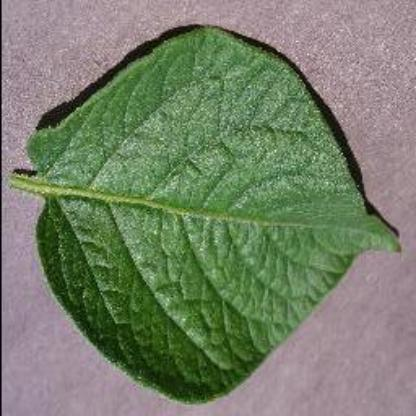Healthy-plant: (12, 24, 404, 404)
